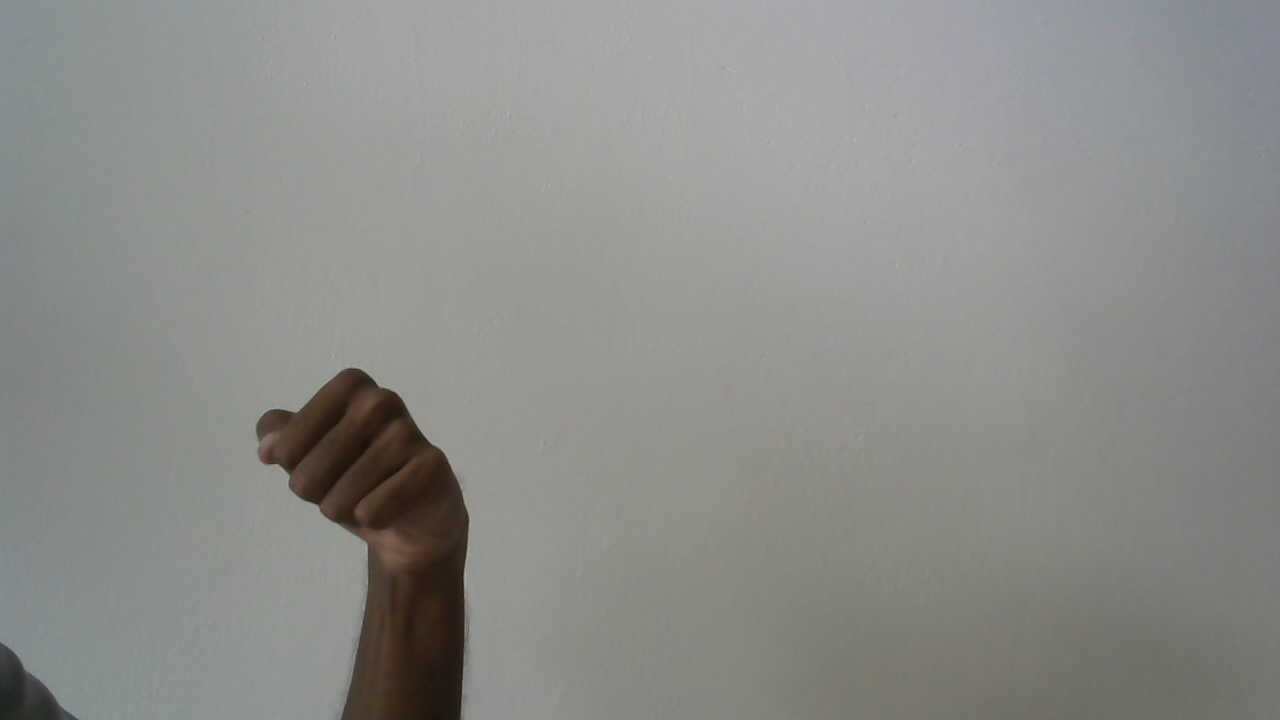yes: (231, 352, 496, 611)
